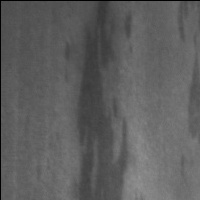inclusion: (67, 3, 134, 200), (179, 34, 200, 145), (58, 32, 79, 93), (172, 1, 194, 46), (175, 150, 191, 183)
